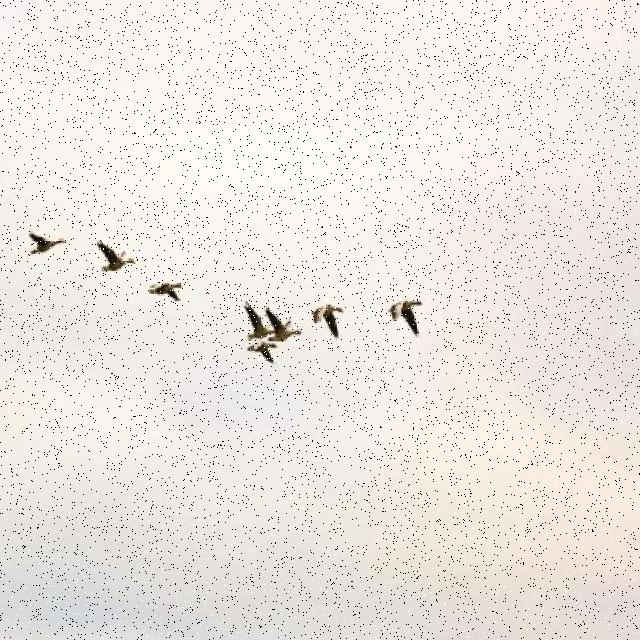bird: (242, 300, 278, 342), (266, 305, 303, 344), (95, 239, 137, 273), (388, 298, 423, 338), (310, 303, 346, 340), (28, 228, 68, 258), (247, 342, 281, 366), (147, 280, 184, 302)
